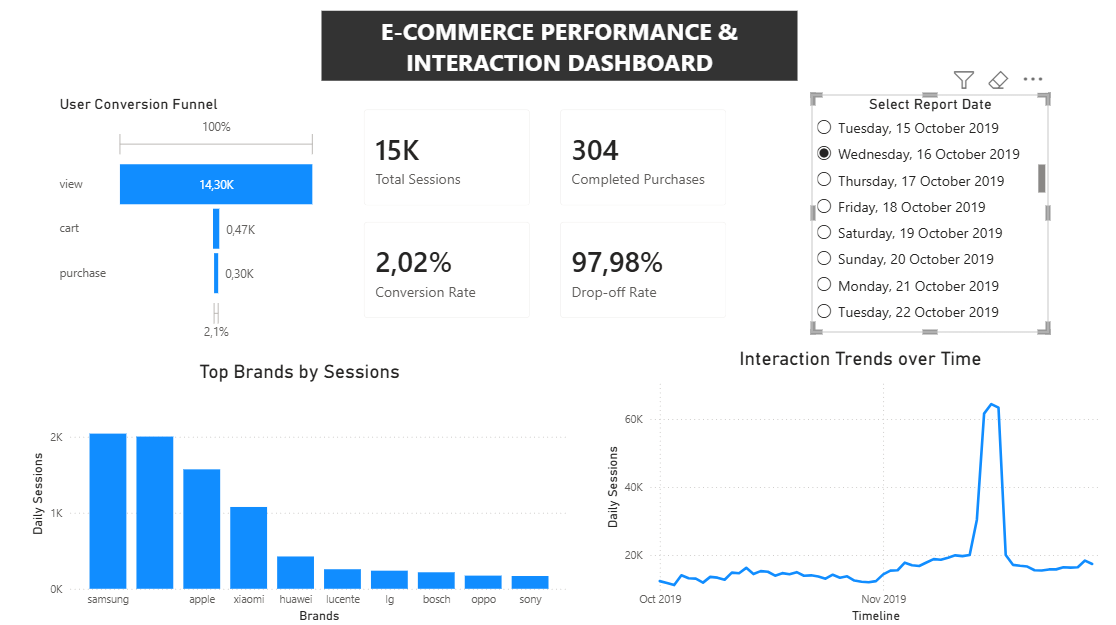

The page's visual inventory and layout, read from the dashboard file:
{"tool":"powerbi","page":{"name":"Page 1","canvas":[1280,720],"ordinal":0},"visuals":[{"type":"funnel","title":"User Conversion Funnel","fields":{"Category":["Ecommerce_Data.event_type"],"Y":["CountNonNull(Ecommerce_Data.user_id)"]},"box":[64,112,304,288],"z":0},{"type":"clusteredColumnChart","title":"Top Brands by Sessions","fields":{"Category":["Ecommerce_Data.brand"],"Y":["CountNonNull(Ecommerce_Data.user_id)"]},"box":[32,416,624,304],"z":1000},{"type":"lineChart","title":"Interaction Trends over Time","fields":{"Category":["Ecommerce_Data.event_time.1"],"Y":["CountNonNull(Ecommerce_Data.user_id)"]},"box":[688,400,592,320],"z":2000},{"type":"listSlicer","title":"Select Report Date","fields":{"Values":["Ecommerce_Data.event_time.1"]},"box":[928,112,272,272],"z":3000},{"type":"textbox","box":[368,16,544,80],"z":4000},{"type":"cardVisual","title":"Conversion Rate","fields":{"Data":["Ecommerce_Data.Conversion Rate"]},"box":[400,240,224,144],"z":5000},{"type":"cardVisual","fields":{"Data":["Ecommerce_Data.Purchases"]},"box":[624,112,224,144],"z":6000},{"type":"cardVisual","fields":{"Data":["Ecommerce_Data.Total Sessions"]},"box":[400,112,224,144],"z":7000},{"type":"cardVisual","title":"Conversion Rate","fields":{"Data":["Ecommerce_Data.Overall Drop-off"]},"box":[624,240,224,144],"z":8000}]}

Visuals, with their boxes in screenshot pixels (x1, y1, x2, y2), scaled from the page's 1280x720 canvas onto the 1116x625 screenshot:
"User Conversion Funnel" funnel: [56,97,321,347]
"Top Brands by Sessions" clusteredColumnChart: [28,361,572,624]
"Interaction Trends over Time" lineChart: [600,347,1115,624]
"Select Report Date" listSlicer: [809,97,1046,333]
textbox: [321,14,795,83]
"Conversion Rate" cardVisual: [349,208,544,333]
cardVisual - Ecommerce_Data.Purchases: [544,97,739,222]
cardVisual - Ecommerce_Data.Total Sessions: [349,97,544,222]
"Conversion Rate" cardVisual: [544,208,739,333]
